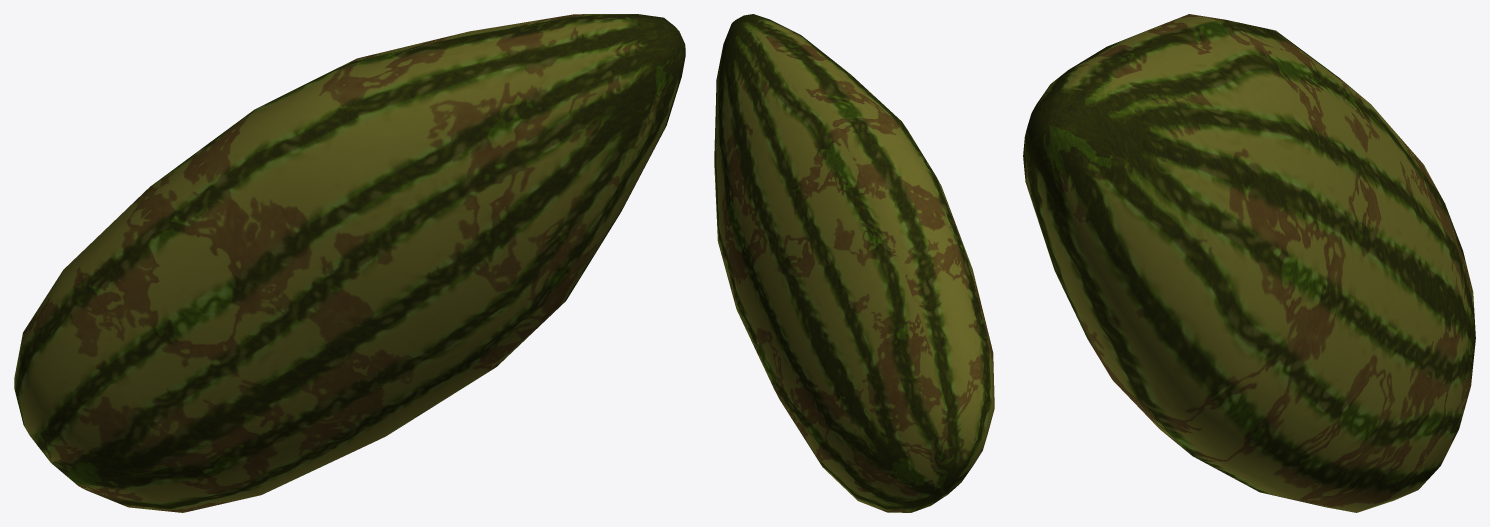
The model's file is SeedAnimated.FBX.
3 views of the same model, side by side, from view 1: azimuth 30°, elevation 25°; view 2: azimuth 150°, elevation 25°; view 3: azimuth 270°, elevation 25° (orthographic). The views are drawn at different scales.
Parts seen in each view (by area): view 1: Seed; view 2: Seed; view 3: Seed.
Part boxes in pixels (bbox=[...]): Seed: bbox=[14, 14, 685, 512]; Seed: bbox=[714, 14, 994, 512]; Seed: bbox=[1023, 14, 1475, 512].
Bounding box in the file's own units: 0.1787 × 0.171 × 0.1222.
